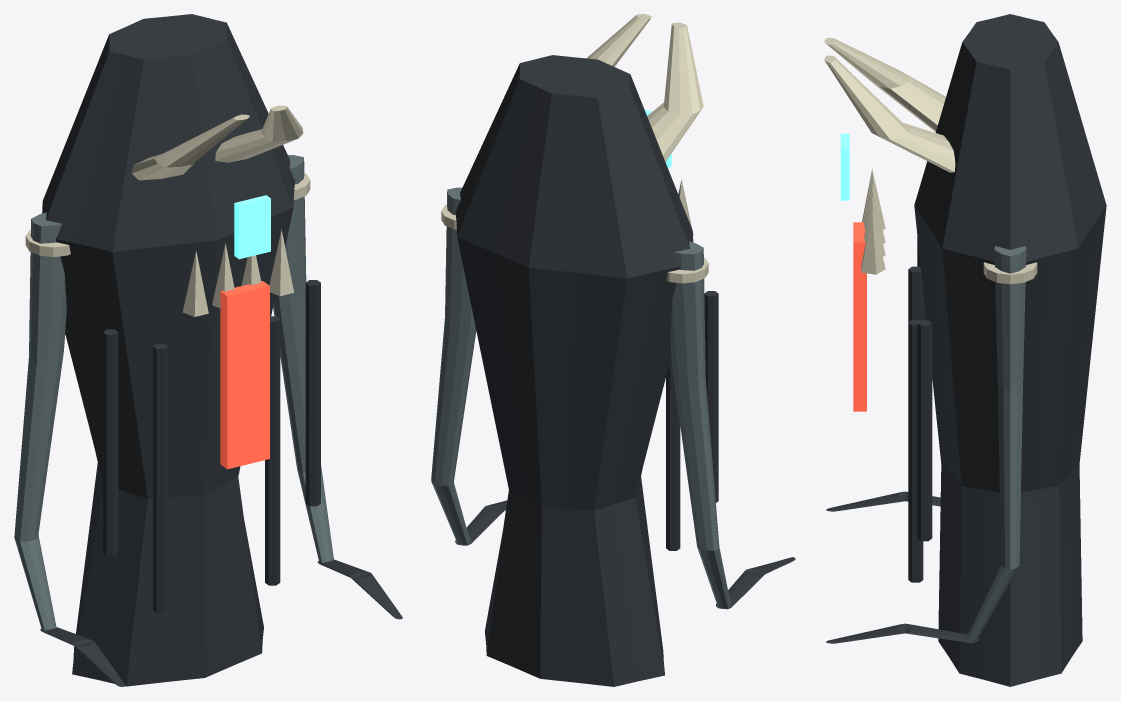
Rendered from wickdrinker.fbx.
The picture shows the model from 3 angles, left to right: view 1: azimuth 30°, elevation 25°; view 2: azimuth 150°, elevation 25°; view 3: azimuth 270°, elevation 25°; orthographic projection. The views are drawn at different scales.
Parts seen in each view (by area): view 1: quenched_cowl, arm_0_skin.002, HP_wick_ember, arm_1_skin.002, HP_wick_tendril_1, HP_wick_tendril_0, HP_wick_tendril_2, HP_wick_tendril_3, wick_jaw_-1, wick_jaw_1, HP_wick_glint, arm_0_hook.002 (+5 smaller); view 2: quenched_cowl, arm_0_skin.002, arm_1_skin.002, wick_jaw_-1, HP_wick_tendril_1, HP_wick_tendril_0, wick_jaw_1, arm_0_hook.002, arm_1_hook.002, arm_0_joint.002; view 3: quenched_cowl, arm_1_skin.002, wick_jaw_1, HP_wick_tendril_2, wick_jaw_-1, HP_wick_tendril_3, HP_wick_ember, arm_1_hook.002, HP_wick_tooth_3, HP_wick_tendril_1, arm_1_joint.002, arm_0_hook.002 (+1 smaller).
Part boxes in pixels (left/top/right/bottom): quenched_cowl: left=42, top=14, right=295, bottom=686; arm_0_skin.002: left=14, top=212, right=66, bottom=630; HP_wick_ember: left=220, top=281, right=269, bottom=469; arm_1_skin.002: left=273, top=155, right=333, bottom=562; HP_wick_tendril_1: left=153, top=343, right=168, bottom=612; HP_wick_tendril_0: left=103, top=329, right=118, bottom=555; HP_wick_tendril_2: left=305, top=280, right=320, bottom=506; HP_wick_tendril_3: left=265, top=316, right=280, bottom=585; wick_jaw_-1: left=132, top=114, right=249, bottom=180; wick_jaw_1: left=215, top=105, right=303, bottom=162; HP_wick_glint: left=234, top=195, right=270, bottom=259; arm_0_hook.002: left=40, top=627, right=125, bottom=686; quenched_cowl: left=455, top=55, right=693, bottom=686; arm_0_skin.002: left=670, top=241, right=730, bottom=608; arm_1_skin.002: left=431, top=187, right=476, bottom=544; wick_jaw_-1: left=647, top=22, right=703, bottom=161; HP_wick_tendril_1: left=666, top=356, right=680, bottom=550; HP_wick_tendril_0: left=704, top=291, right=718, bottom=502; wick_jaw_1: left=586, top=14, right=651, bottom=66; arm_0_hook.002: left=716, top=557, right=795, bottom=609; arm_1_hook.002: left=455, top=500, right=507, bottom=545; arm_0_joint.002: left=666, top=257, right=708, bottom=283; quenched_cowl: left=914, top=14, right=1106, bottom=686; arm_1_skin.002: left=967, top=246, right=1026, bottom=642; wick_jaw_1: left=824, top=55, right=955, bottom=172; HP_wick_tendril_2: left=917, top=320, right=932, bottom=541; wick_jaw_-1: left=824, top=37, right=945, bottom=131; HP_wick_tendril_3: left=908, top=320, right=923, bottom=582; HP_wick_ember: left=853, top=222, right=866, bottom=411; arm_1_hook.002: left=826, top=623, right=979, bottom=643; HP_wick_tooth_3: left=861, top=209, right=885, bottom=274; HP_wick_tendril_1: left=908, top=266, right=923, bottom=322; arm_1_joint.002: left=983, top=262, right=1037, bottom=284; arm_0_hook.002: left=826, top=491, right=940, bottom=511.
Size of the model in its own units: 114 by 220 by 93.9.
